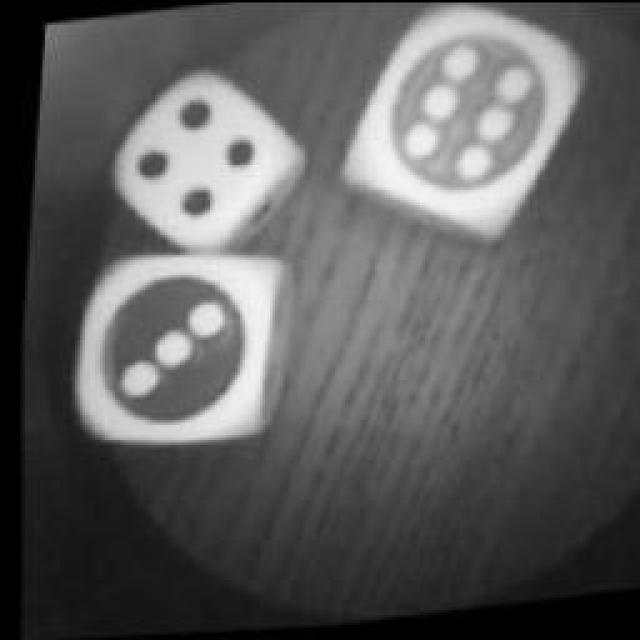dice_3: (46, 232, 292, 462)
dice_4: (84, 70, 291, 260)
dice_6: (308, 0, 593, 262)
